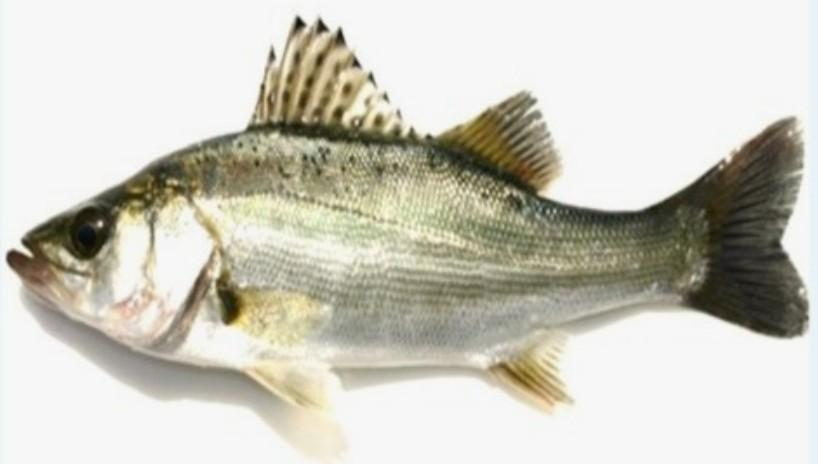fish: (7, 17, 807, 410)
